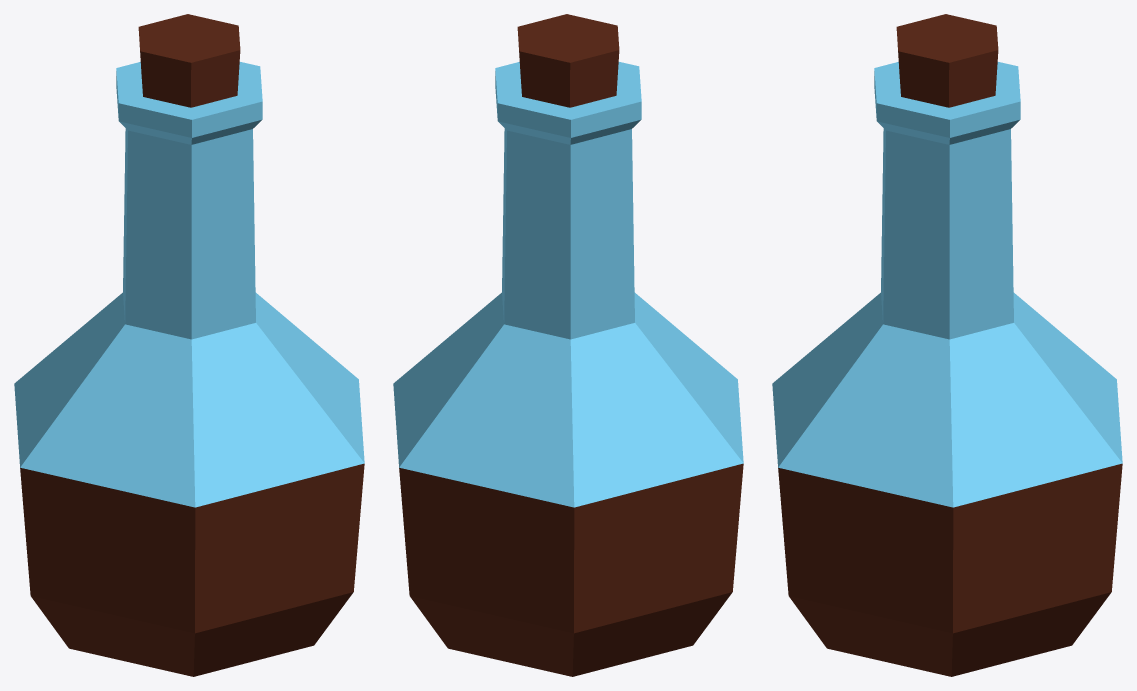
The model's file is m_BrownPotion.FBX.
3 views of the same model, side by side, from view 1: azimuth 30°, elevation 25°; view 2: azimuth 150°, elevation 25°; view 3: azimuth 270°, elevation 25° (orthographic).
Parts seen in each view (by area): view 1: Circle.001; view 2: Circle.001; view 3: Circle.001.
Boxes of the visible parts, left/top/right/bottom form: Circle.001: left=14, top=14, right=364, bottom=676; Circle.001: left=393, top=14, right=743, bottom=676; Circle.001: left=772, top=14, right=1122, bottom=676.
Bounding box in the file's own units: 45.15 × 72.46 × 39.76.
1 material, 1 textured.
